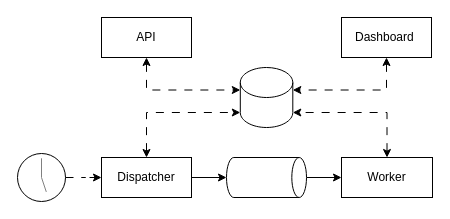
Image size: 450x219. Some labels were removed from this diagram. Here are the shapes that lost their labels. From the top down, the centre of each, then its label:
the point at 266,97: DB
the point at 266,177: Queue
